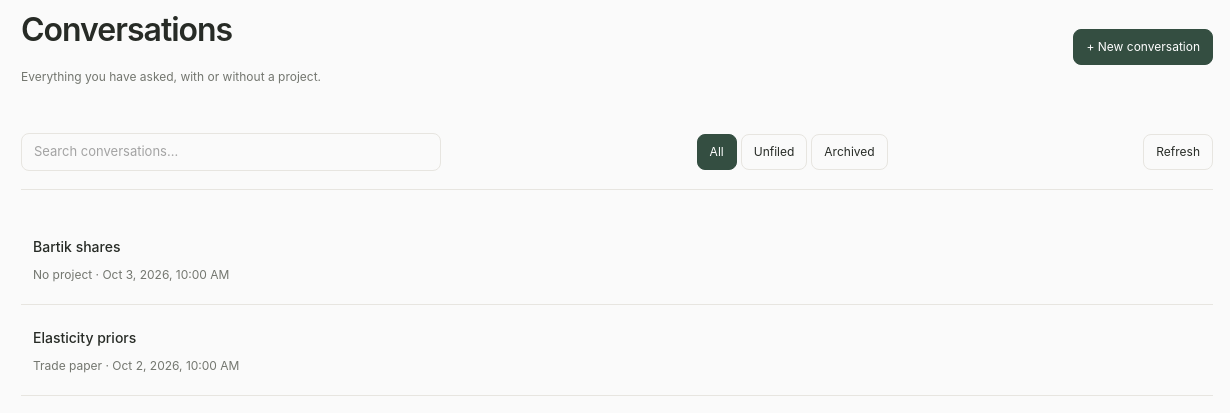
Test case: filters to unfiled and archived conversations and by search
This screenshot has width=1230, height=413.
Expected: the button "Bartik shares" is shown, [33, 236, 120, 257]
Click the button "Unfiled" at (774, 152), box [741, 134, 807, 170]
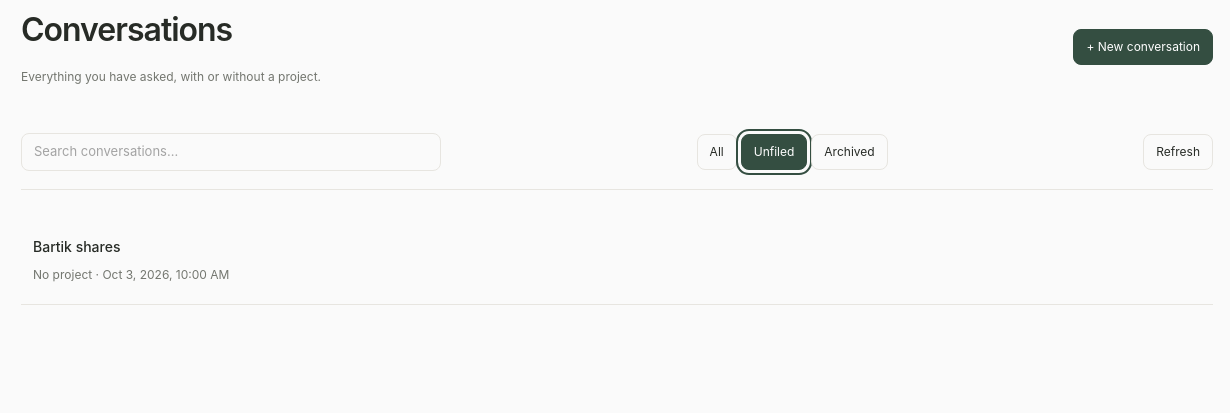
Expected: the button "Elasticity priors" is gone
Click the button "Archived" at (849, 152), box [811, 134, 888, 170]
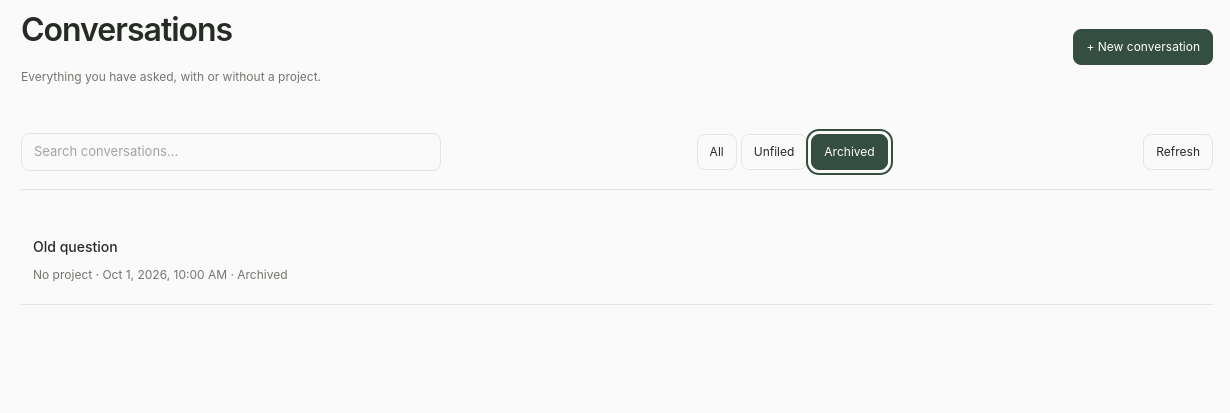
Expected: the button "Old question" is shown, [33, 236, 118, 257]
Expected: the button "Bartik shares" is gone
Click the button "All" at (717, 152), box [697, 134, 737, 170]
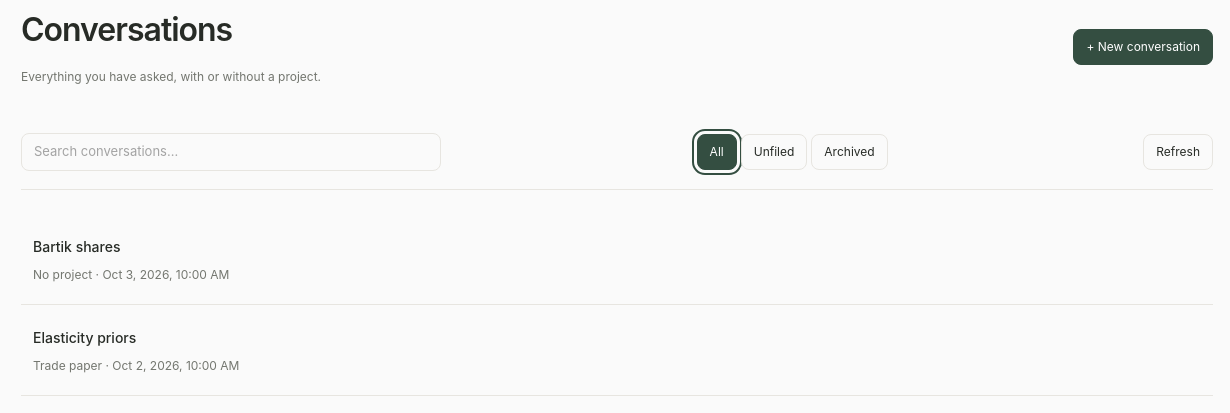
Type "nothing like this" into the search field labelled "Search conversations" at (231, 152), box [21, 133, 441, 171]
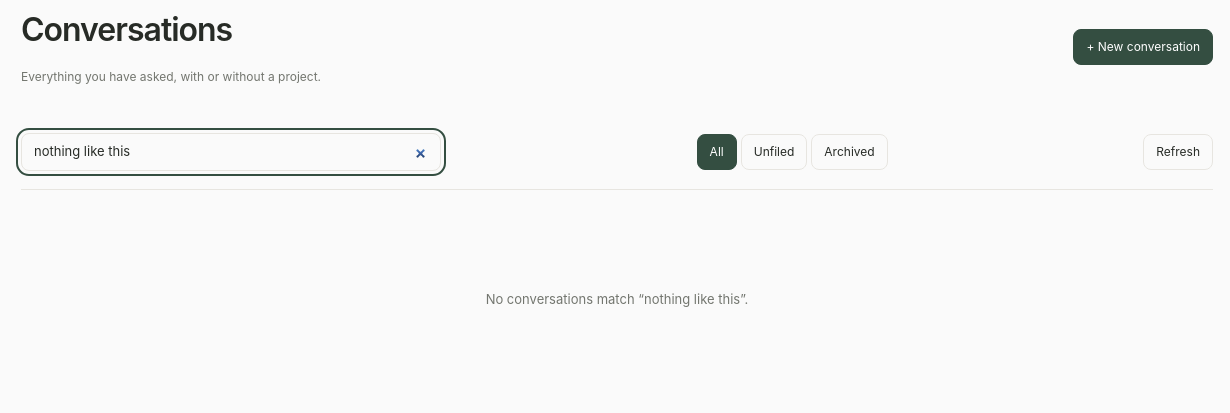
Expected: the text "No conversations match “nothing like this”." is shown, [486, 291, 748, 307]
